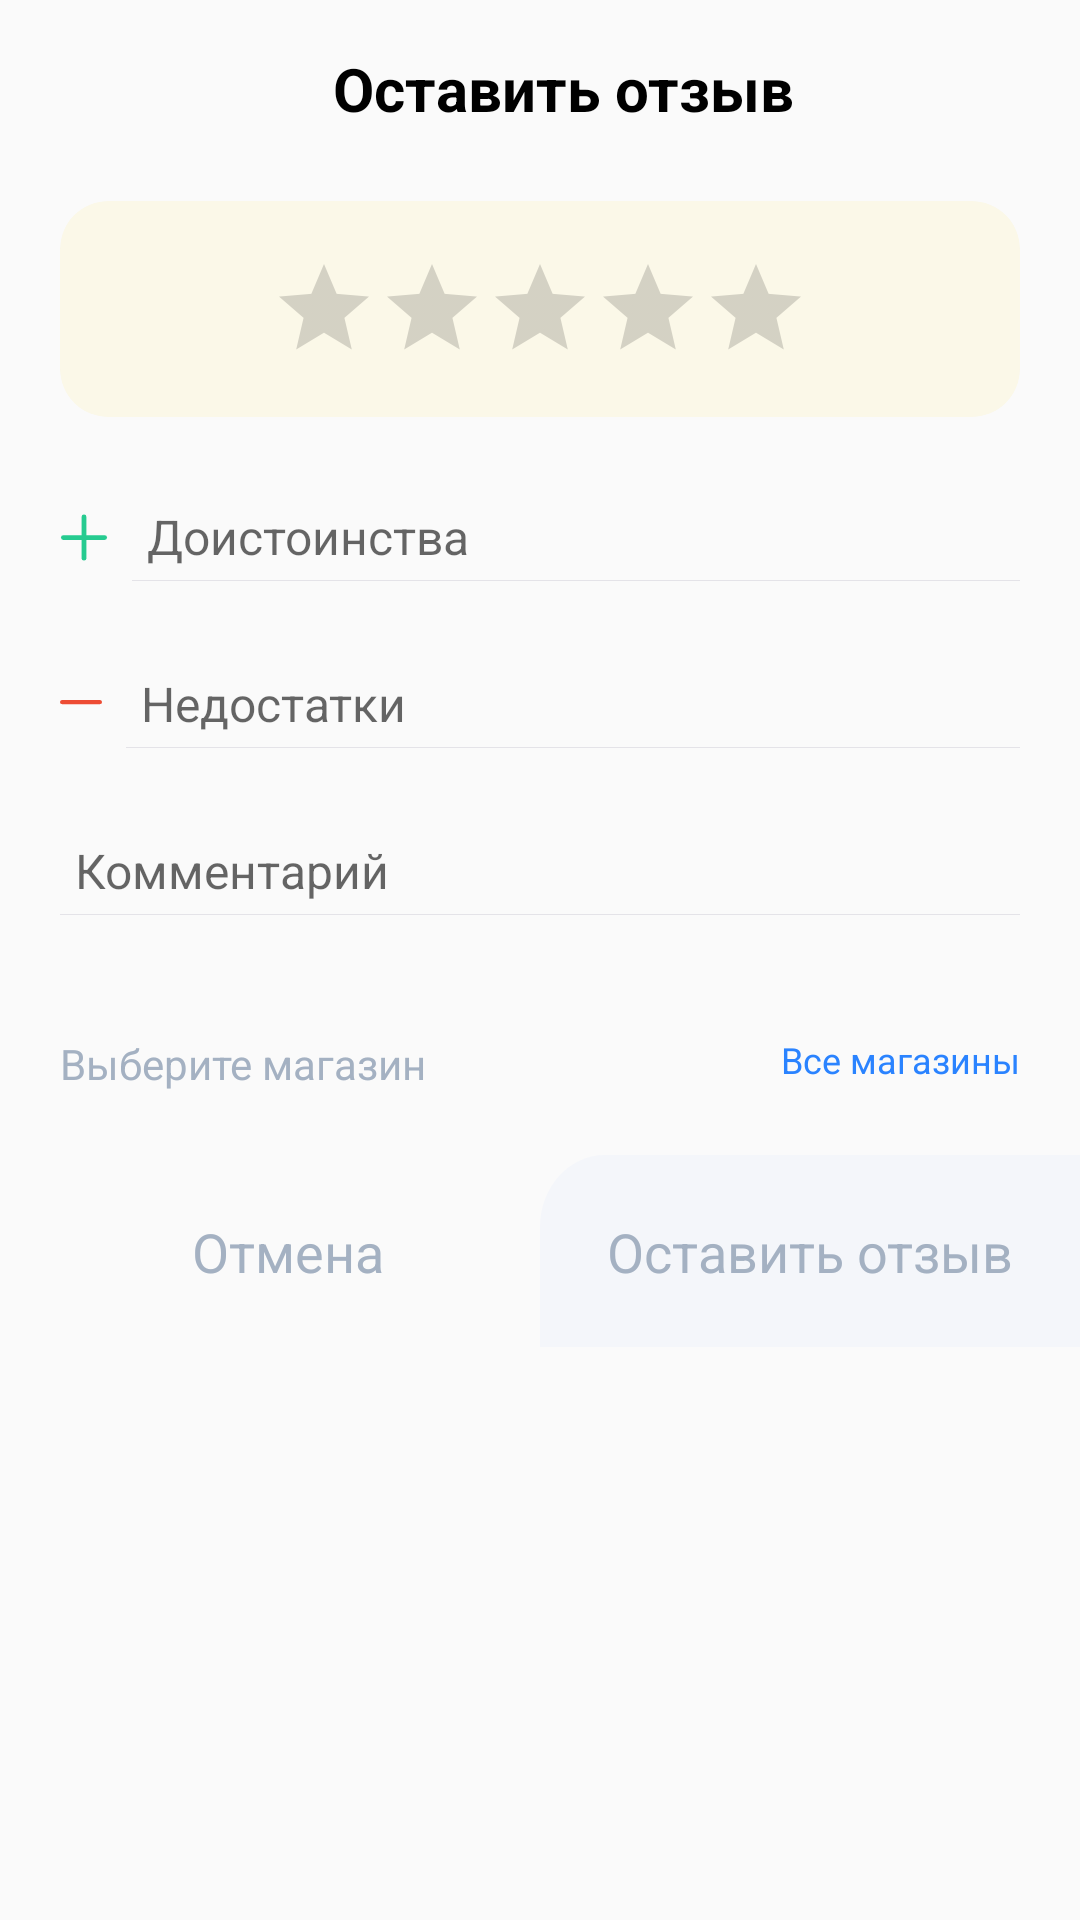

Screen size 1080w x 1920h. Icon name, then its box in pixels as (x1, y1, x2, y2):
plus: (61, 514, 107, 561)
